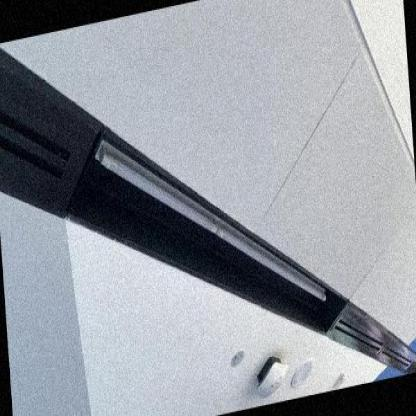light_off: (88, 78, 334, 354)
